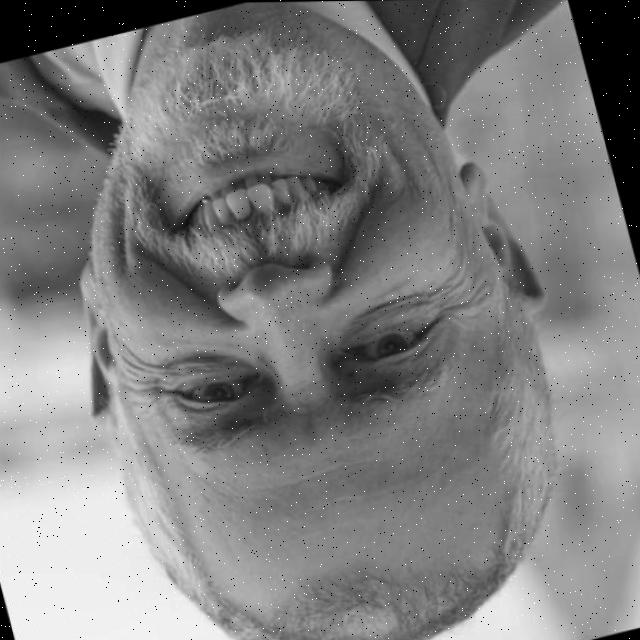puffy_eyes: (348, 297, 435, 342), (156, 352, 243, 393)
